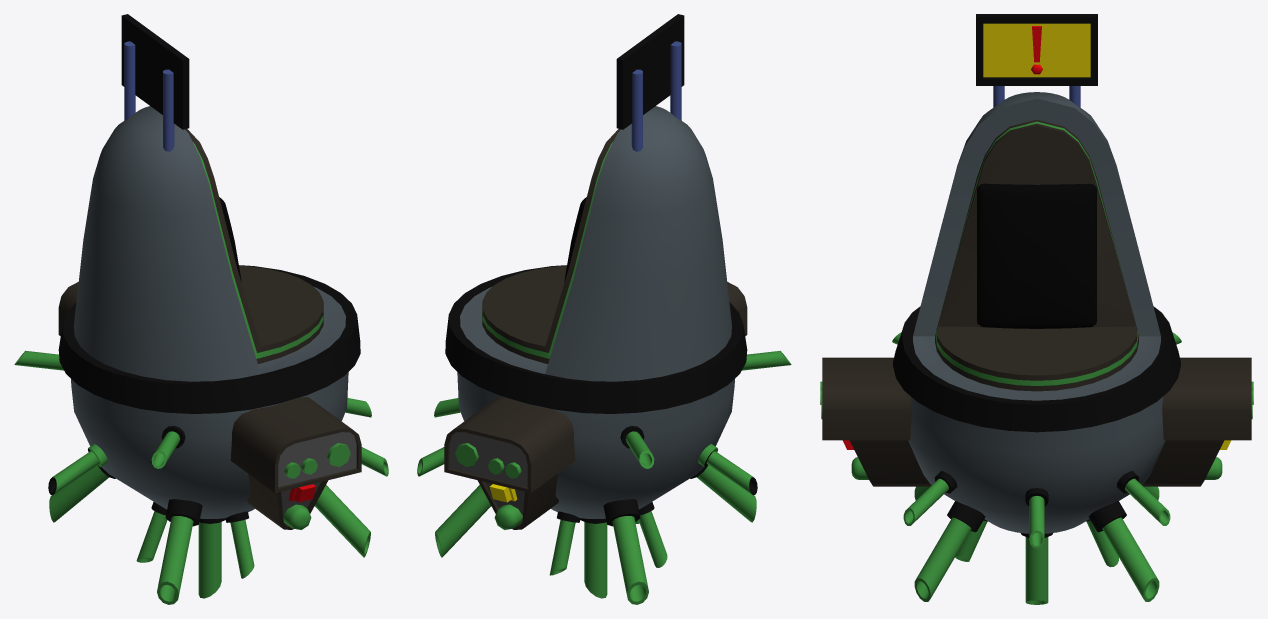
Rendered from encryption.fbx.
3 views of the same model, side by side, from view 1: azimuth 30°, elevation 25°; view 2: azimuth 150°, elevation 25°; view 3: azimuth 270°, elevation 25° (orthographic).
Visible parts, largest first — view 1: Sphere, Cube.003, Sphere.002, Cube, Cube.008, Cube.019, Cube.005, Cylinder, Cube.006, Cube.009, Cube.016, Cube.012 (+5 smaller); view 2: Sphere, Cube.003, Sphere.002, Cube, Cube.009, Cube.019, Cube.005, Cylinder, Cube.007, Cube.008, Cube.016, Cube.011 (+5 smaller); view 3: Sphere, Sphere.002, Cube.003, Sphere.001, Cube, Cube.006, Cube.007, Cube.005, Cube.014, Cube.015, Cube.010, Cube.011.
Boxes of the visible parts, left/top/right/bottom form: Sphere: left=58, top=106, right=360, bottom=518; Cube.003: left=58, top=282, right=361, bottom=529; Sphere.002: left=185, top=129, right=323, bottom=363; Cube: left=121, top=14, right=189, bottom=129; Cube.008: left=157, top=499, right=202, bottom=604; Cube.019: left=278, top=432, right=356, bottom=523; Cube.005: left=198, top=518, right=225, bottom=598; Cylinder: left=124, top=41, right=174, bottom=151; Cube.006: left=315, top=485, right=370, bottom=557; Cube.009: left=49, top=465, right=115, bottom=522; Cube.016: left=48, top=444, right=107, bottom=495; Cube.012: left=225, top=511, right=254, bottom=578; Sphere: left=445, top=106, right=747, bottom=518; Cube.003: left=444, top=282, right=747, bottom=529; Sphere.002: left=482, top=129, right=620, bottom=363; Cube: left=616, top=14, right=684, bottom=129; Cube.009: left=603, top=499, right=648, bottom=604; Cube.019: left=449, top=432, right=527, bottom=523; Cube.005: left=580, top=518, right=607, bottom=598; Cylinder: left=631, top=41, right=681, bottom=151; Cube.007: left=435, top=485, right=490, bottom=557; Cube.008: left=690, top=465, right=756, bottom=522; Cube.016: left=698, top=444, right=757, bottom=495; Cube.011: left=549, top=511, right=580, bottom=575; Sphere: left=893, top=92, right=1180, bottom=533; Sphere.002: left=935, top=119, right=1138, bottom=391; Cube.003: left=822, top=357, right=1251, bottom=486; Sphere.001: left=977, top=183, right=1096, bottom=328; Cube: left=976, top=14, right=1097, bottom=85; Cube.006: left=914, top=501, right=985, bottom=601; Cube.007: left=1088, top=501, right=1159, bottom=601; Cube.005: left=1021, top=533, right=1052, bottom=604; Cube.014: left=1116, top=471, right=1170, bottom=525; Cube.015: left=903, top=471, right=957, bottom=525; Cube.010: left=1025, top=488, right=1048, bottom=548; Cube.011: left=1086, top=519, right=1118, bottom=567.
Size of the model in its own units: 263 by 451 by 312.
